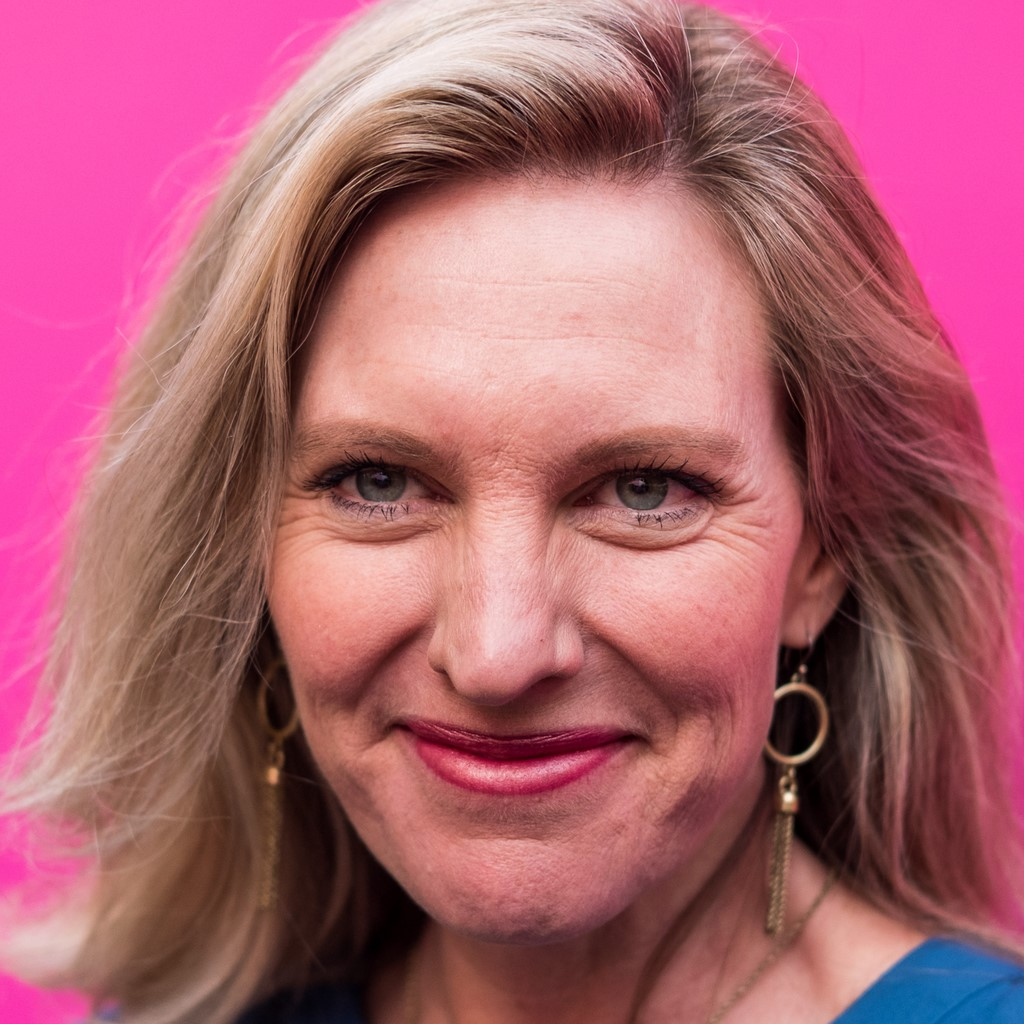sin_mascara: (251, 183, 798, 923)
